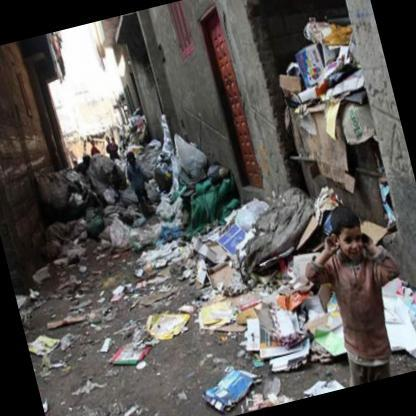Garbage: (159, 192, 307, 340), (268, 7, 386, 182), (157, 134, 251, 259), (40, 152, 135, 242), (117, 215, 196, 305), (198, 358, 271, 415), (388, 281, 415, 373)
